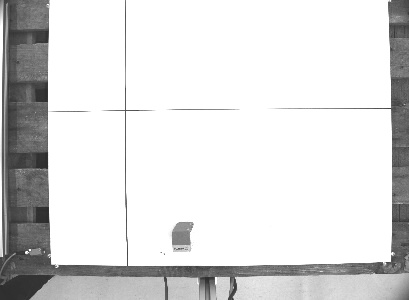b3: (169, 219, 196, 254)
